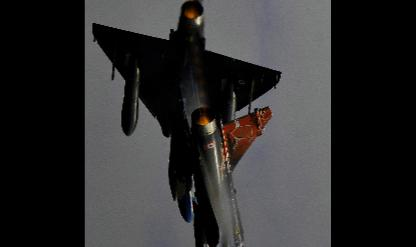Mirage2000: (92, 0, 282, 200), (174, 105, 274, 245)
